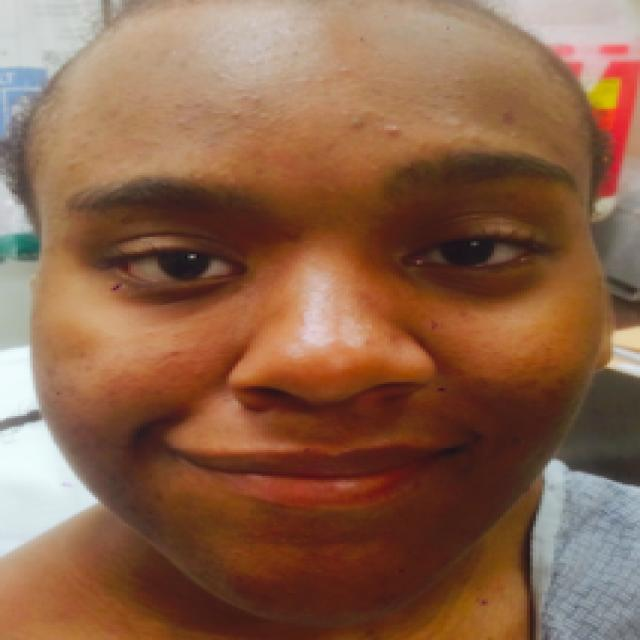normal_face: (32, 0, 612, 630)
